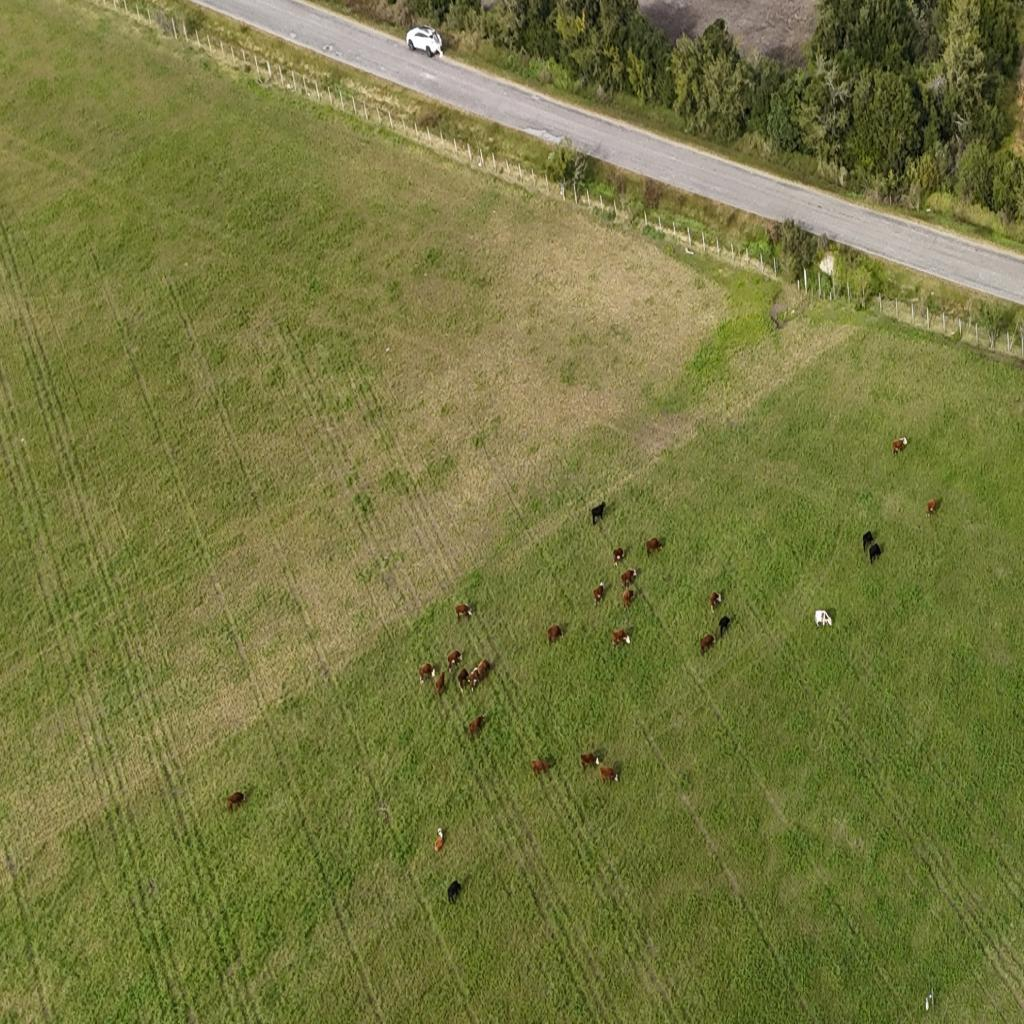cow: (588, 498, 609, 528), (444, 876, 464, 905), (714, 612, 734, 640), (598, 763, 620, 785), (418, 661, 438, 684), (227, 791, 246, 813), (612, 626, 631, 648), (580, 751, 600, 771), (645, 537, 664, 558), (456, 666, 470, 694), (592, 582, 606, 609), (532, 757, 552, 775), (455, 602, 473, 622), (815, 609, 833, 629), (468, 716, 484, 738), (446, 649, 462, 671), (891, 438, 908, 458), (434, 670, 446, 698), (700, 633, 715, 655), (547, 624, 562, 645), (926, 495, 940, 517), (478, 656, 491, 679), (613, 544, 626, 565), (869, 543, 882, 564), (622, 571, 636, 590), (435, 830, 445, 854), (710, 591, 722, 611), (863, 531, 876, 549), (470, 668, 479, 692), (622, 590, 633, 609)
